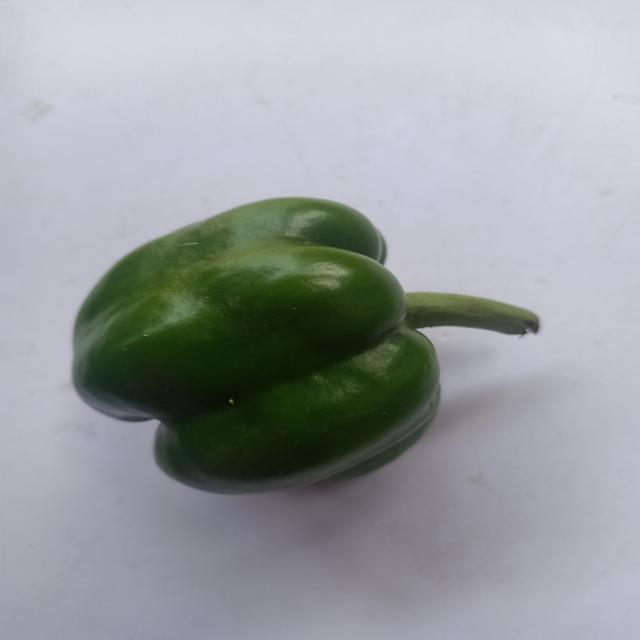Capsicum: (62, 175, 546, 514)
